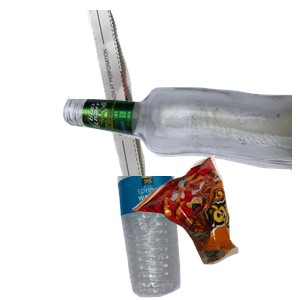glass: (60, 84, 300, 260)
paper: (85, 10, 224, 190)
plastic: (115, 176, 288, 300)
trash: (130, 153, 300, 300)
